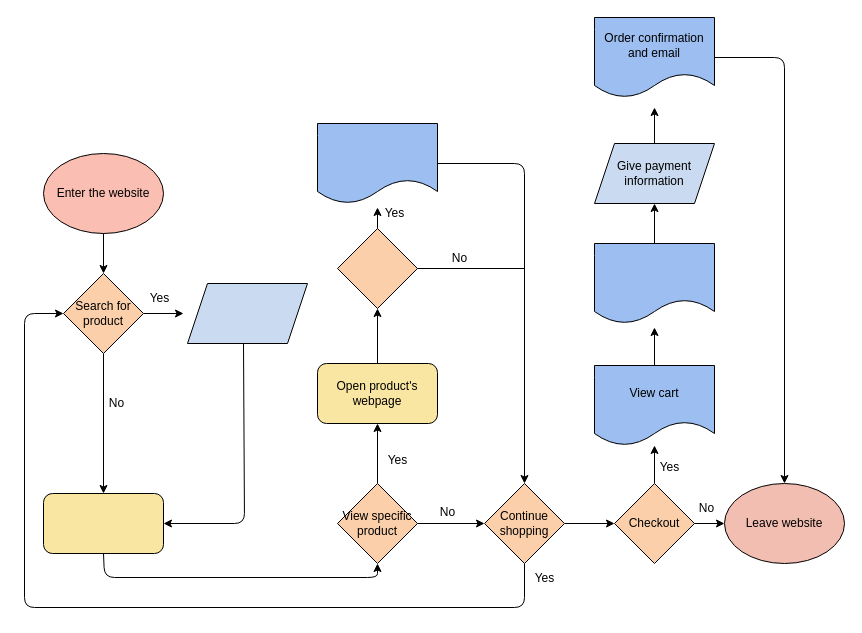
The diagram is 862 pixels wide and 633 high, and some of its shapes have lost their labels. Here are the shapes that lost their labels. From the top down, the centre of each, then its label:
At point 377,163: "Added to cart confirmaton".
At point 377,268: "Add to cart".
At point 654,283: "View payment".
At point 247,313: "Provide input to the website of their search".
At point 103,523: "Look over products".
